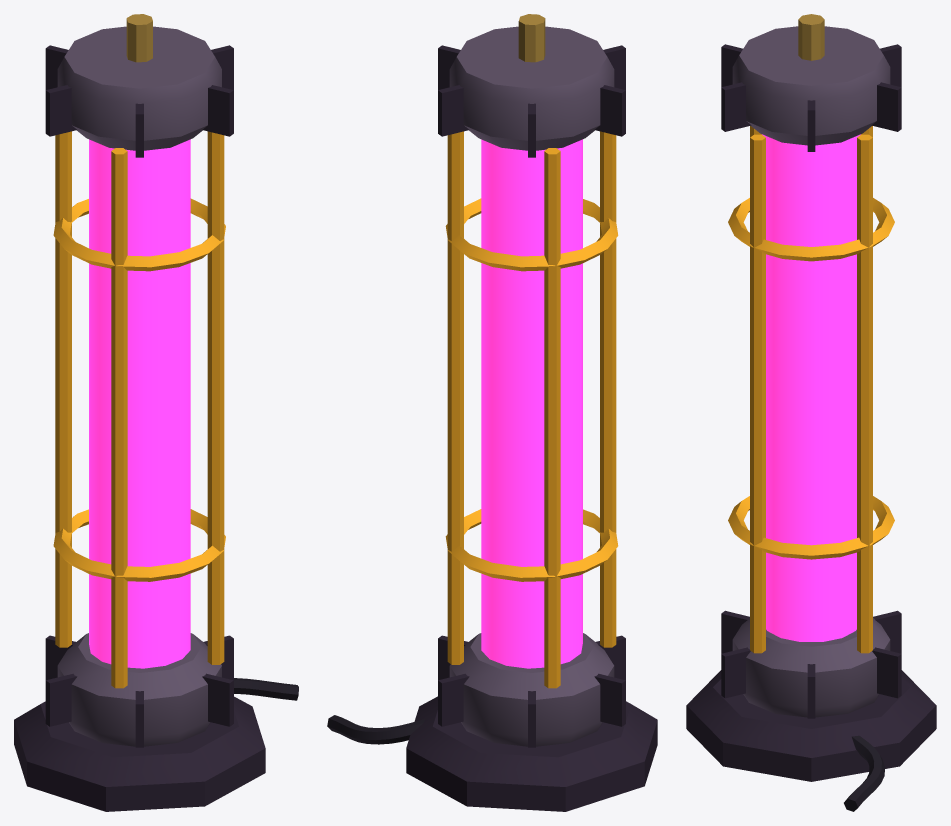
File: neon.glb
The picture shows the model from 3 angles, left to right: view 1: azimuth 30°, elevation 25°; view 2: azimuth 150°, elevation 25°; view 3: azimuth 270°, elevation 25°; orthographic projection. The views are drawn at different scales.
Visible parts, largest first — view 1: Body; view 2: Body; view 3: Body.
Boxes of the visible parts, x1,y1,x2,y2 form: Body: (14, 14, 298, 811); Body: (327, 14, 657, 811); Body: (686, 14, 936, 811).
Bounding box in the file's own units: 0.4943 × 1.19 × 0.38.
